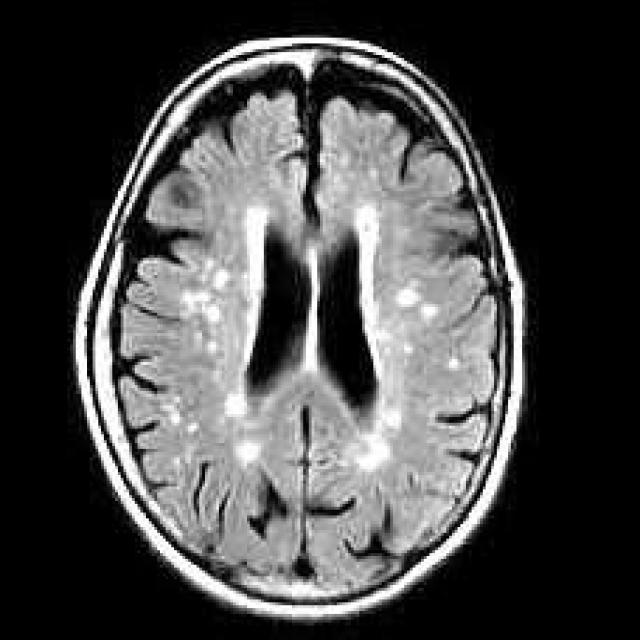notumor: (76, 41, 522, 626)
